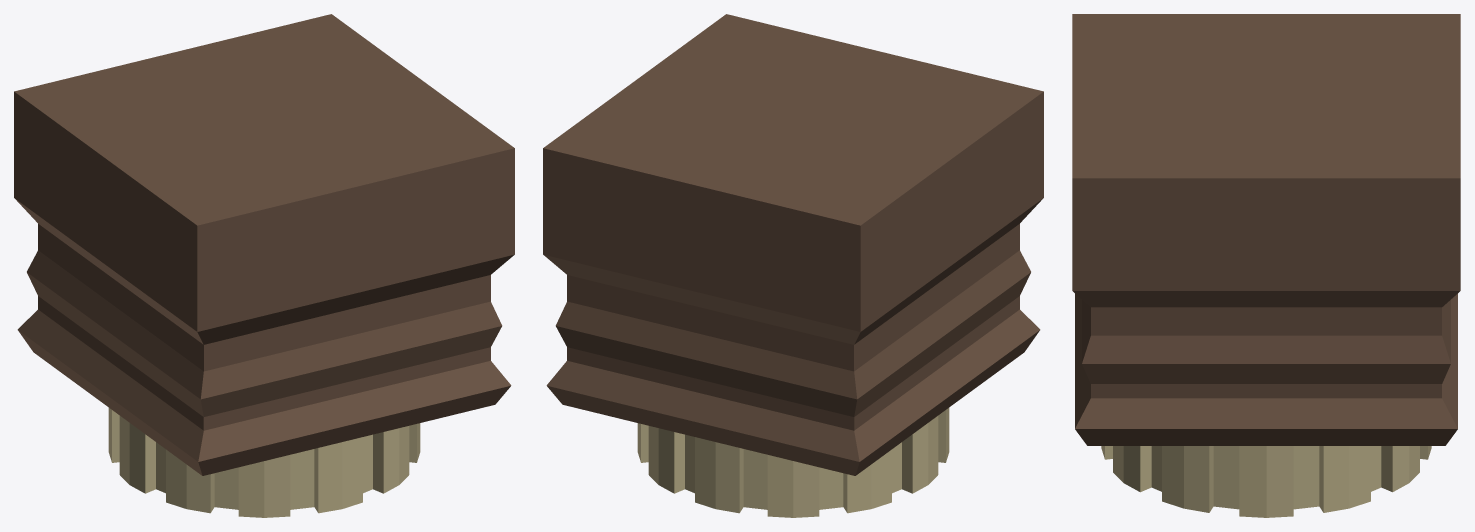
Rendered from roof column darker.fbx.
The picture shows the model from 3 angles, left to right: view 1: azimuth 30°, elevation 25°; view 2: azimuth 150°, elevation 25°; view 3: azimuth 270°, elevation 25°; orthographic projection. The views are drawn at different scales.
Visible parts, largest first — view 1: Cylinder.003, Cylinder.004; view 2: Cylinder.003, Cylinder.004; view 3: Cylinder.003, Cylinder.004.
Part boxes in pixels (<box>): Cylinder.003: <box>14,14,514,475</box>; Cylinder.004: <box>108,408,420,517</box>; Cylinder.003: <box>543,14,1043,475</box>; Cylinder.004: <box>637,408,949,517</box>; Cylinder.003: <box>1072,14,1460,445</box>; Cylinder.004: <box>1101,446,1431,517</box>.
Bounding box in the file's own units: 400 × 400 × 400.
